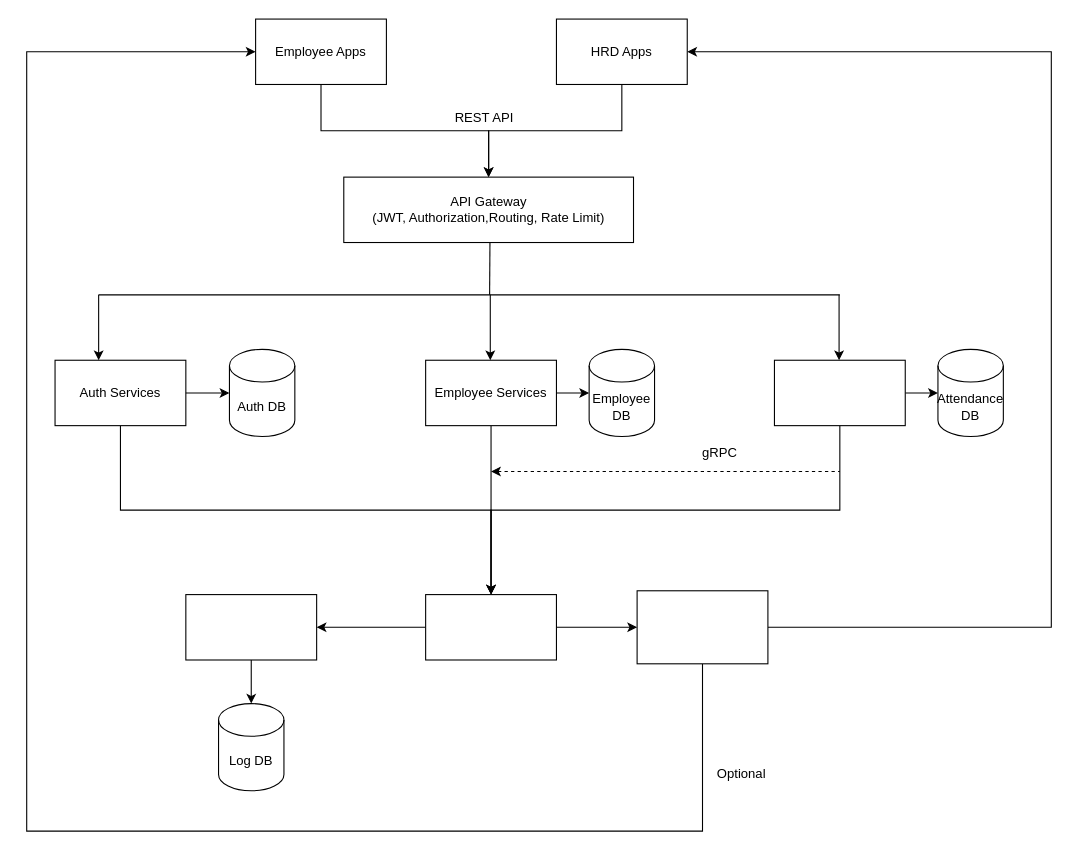
Image size: 1079x859. Some labels were removed from this diagram. The centre of each missing label's shape, as x and y in pixels:
Attendance Service: point 839,392
Logging Service: point 251,627
Notification Service (Websocket/Socket.io): point 702,627
RabbitMQ: point 490,627
